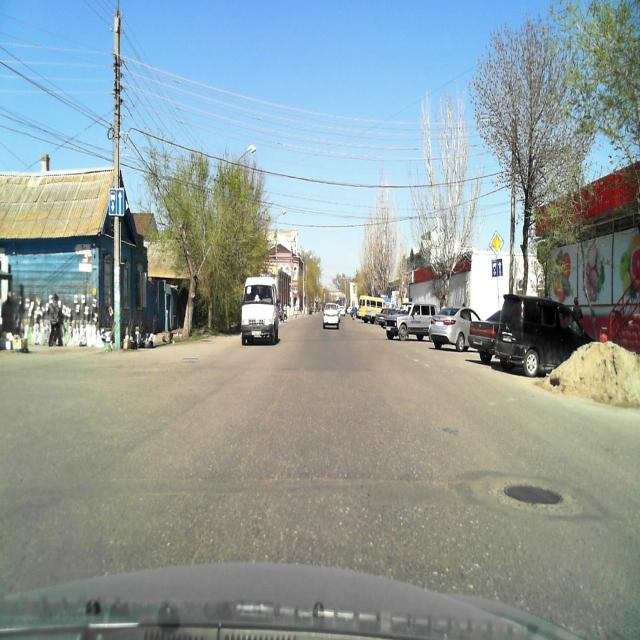road sign: (109, 188, 124, 216), (489, 231, 505, 257), (491, 258, 503, 278)
